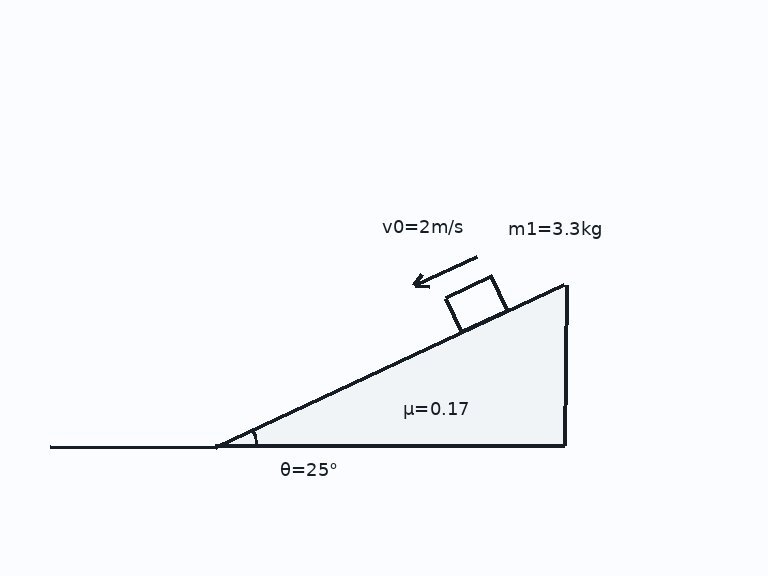block: (443, 274, 509, 334)
ramp: (214, 282, 566, 448)
